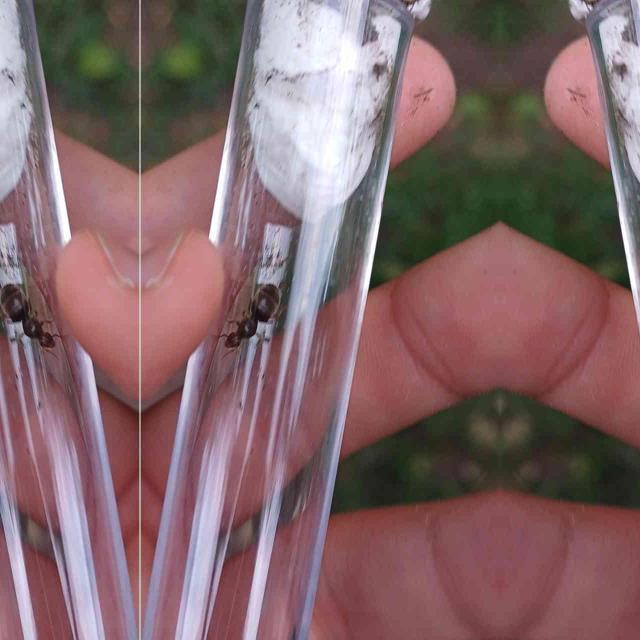Lasius: (222, 276, 276, 352), (4, 276, 58, 352)
